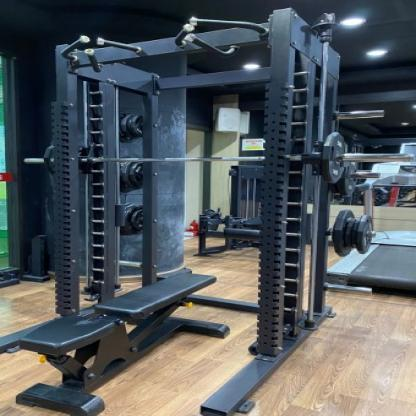smith machine: (52, 8, 344, 416)
